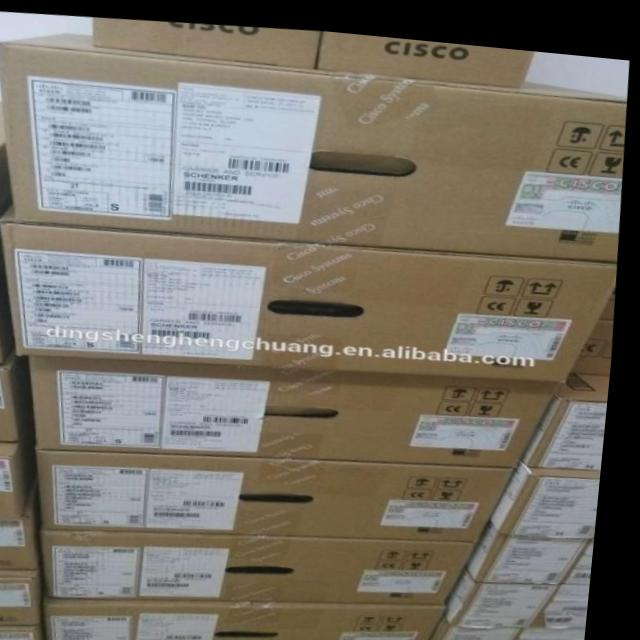box: (0, 30, 626, 251), (1, 209, 619, 370), (34, 356, 567, 457), (46, 448, 527, 531), (53, 524, 488, 595), (55, 593, 456, 640), (318, 25, 533, 77), (91, 16, 322, 61), (529, 359, 615, 458), (455, 559, 600, 616), (498, 457, 609, 525), (474, 517, 604, 573), (432, 600, 597, 640), (0, 434, 50, 519), (0, 496, 50, 570), (0, 356, 43, 442), (0, 569, 55, 626), (582, 284, 618, 363), (0, 276, 22, 366), (0, 102, 13, 218), (0, 625, 56, 640)
